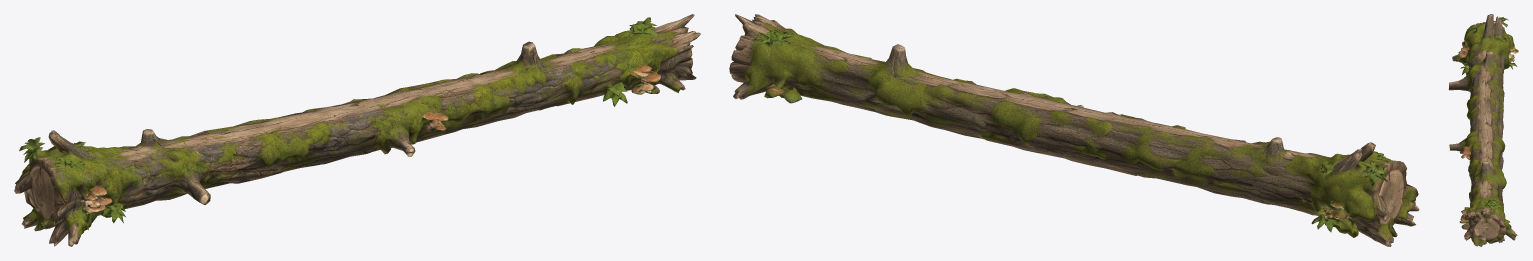
Rendered from kutuk.glb.
The picture shows the model from 3 angles, left to right: view 1: azimuth 30°, elevation 25°; view 2: azimuth 150°, elevation 25°; view 3: azimuth 270°, elevation 25°; orthographic projection. The views are drawn at different scales.
Size of the model in its own units: 1.9 by 0.2613 by 0.2989.
1 material, 1 textured.
